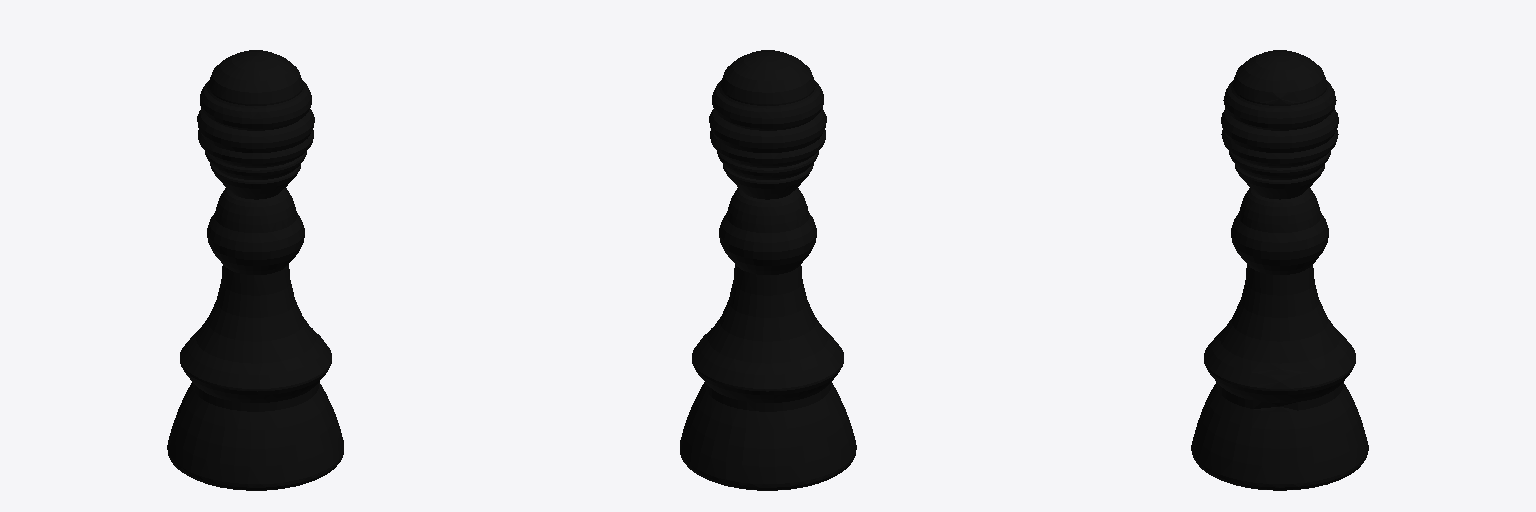
File: blackBishop.obj
3 renders of one model, left to right at view 1: azimuth 30°, elevation 25°; view 2: azimuth 150°, elevation 25°; view 3: azimuth 270°, elevation 25°, orthographic.
Visible parts, largest first — view 1: Obj_000088; view 2: Obj_000088; view 3: Obj_000088.
Part boxes in pixels (bbox=[...]): Obj_000088: bbox=[167, 50, 343, 490]; Obj_000088: bbox=[680, 50, 856, 490]; Obj_000088: bbox=[1191, 50, 1368, 490].
Size of the model in its own units: 3.15 by 7.87 by 3.15.